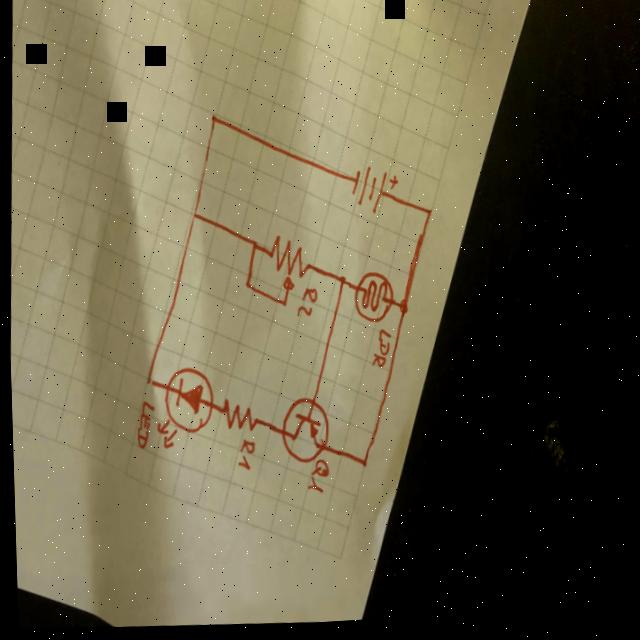diode: (150, 362, 214, 457)
junction: (395, 302, 406, 319), (334, 278, 344, 290), (143, 377, 152, 389), (356, 459, 365, 471), (240, 280, 248, 292), (208, 115, 217, 125), (249, 242, 257, 253), (277, 301, 285, 312), (422, 212, 431, 221), (189, 212, 197, 222)
resistor: (257, 230, 309, 314), (348, 273, 393, 330), (217, 399, 255, 436)
source: (347, 166, 398, 221)
text: (130, 400, 153, 452), (366, 330, 390, 374), (302, 460, 327, 498), (292, 289, 315, 321), (232, 439, 252, 475)
transistor: (274, 397, 327, 470)
